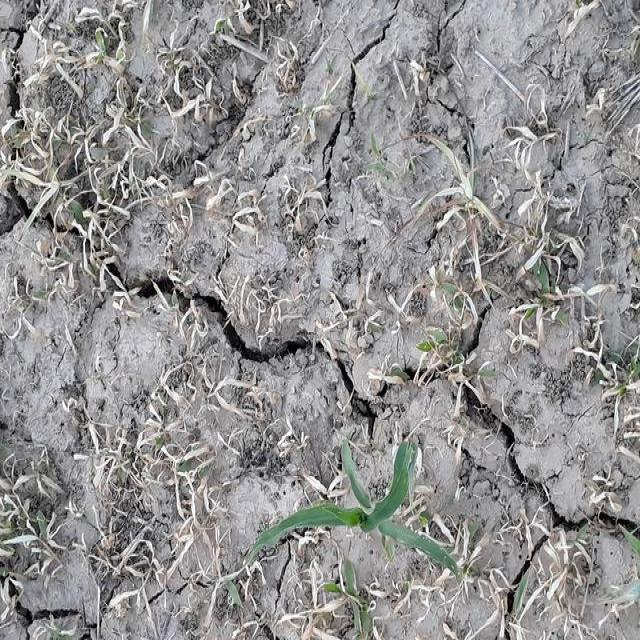weed: (258, 436, 478, 584)
